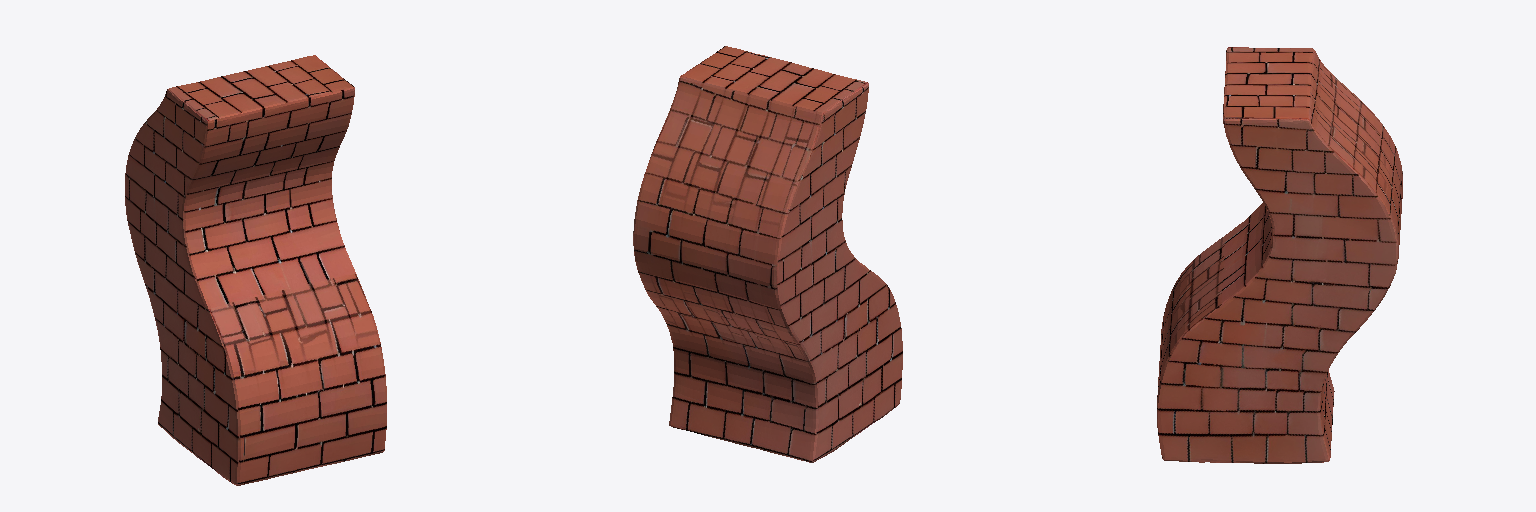
3 renders of one model, left to right at view 1: azimuth 30°, elevation 25°; view 2: azimuth 150°, elevation 25°; view 3: azimuth 270°, elevation 25°, orthographic.
Parts seen in each view (by area): view 1: tripo_node_0909f279-2ab4-4c38-bb25-326aaec6a9c8; view 2: tripo_node_0909f279-2ab4-4c38-bb25-326aaec6a9c8; view 3: tripo_node_0909f279-2ab4-4c38-bb25-326aaec6a9c8.
Part boxes in pixels (x1,y1,x2,y2): tripo_node_0909f279-2ab4-4c38-bb25-326aaec6a9c8: (125,55,386,485); tripo_node_0909f279-2ab4-4c38-bb25-326aaec6a9c8: (633,46,902,462); tripo_node_0909f279-2ab4-4c38-bb25-326aaec6a9c8: (1157,47,1402,463).
Size of the model in its own units: 0.4388 by 0.9493 by 0.6128.
1 materials, 1 textured.